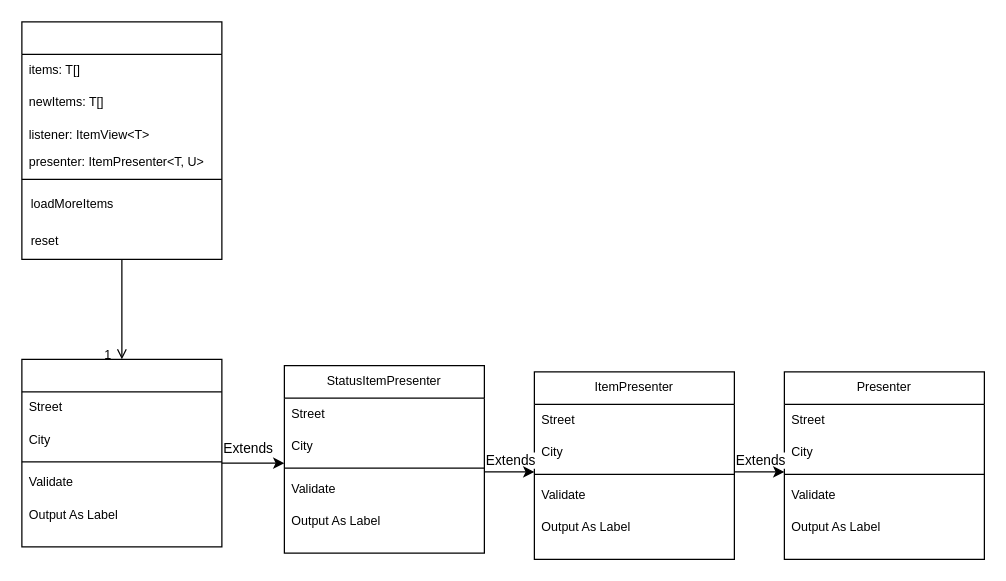
Image size: 1006x581. Some labels were removed from this diagram. Here are the shapes that lost their labels. From the top down, the box of each, then its label:
(21, 21, 222, 259): ItemScroller
(21, 358, 222, 547): StoryPresenter
